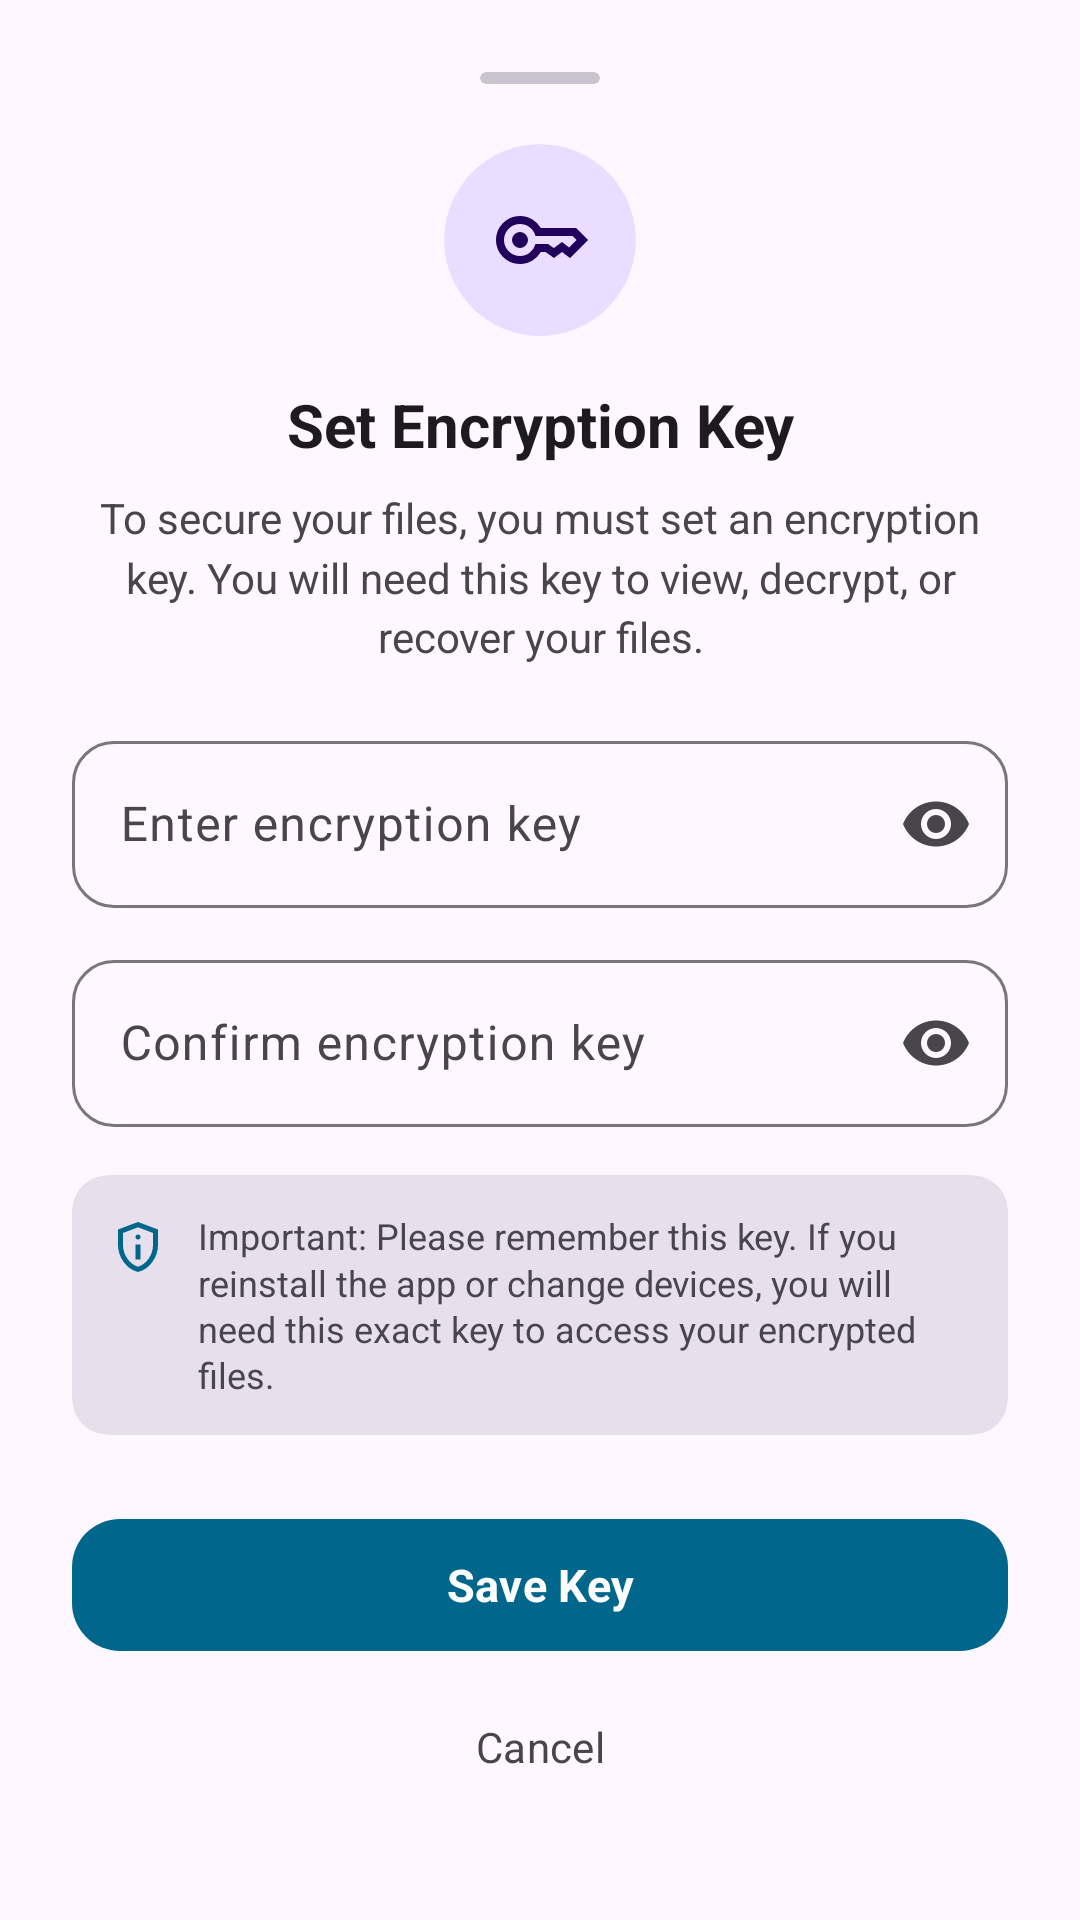

Named icons in this screenshot (1080px x 1920px) and their centers, (x,y):
privacy tip: (138,1247)
